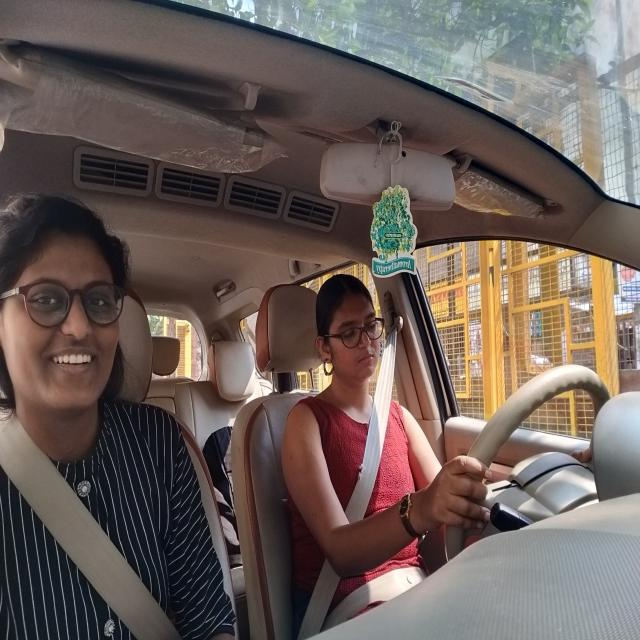drowsy: (309, 263, 396, 409)
person: (2, 172, 140, 456)
